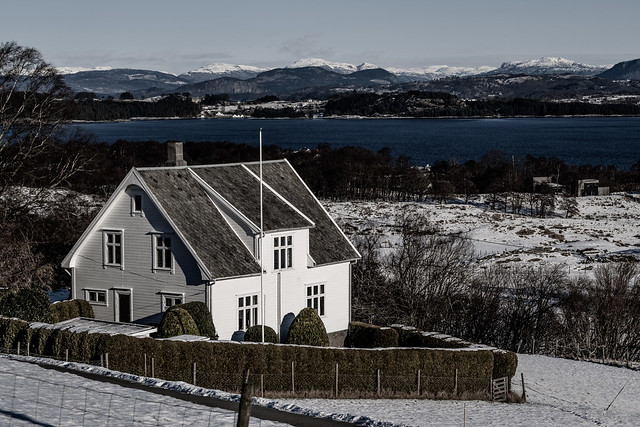low: (54, 153, 365, 353)
